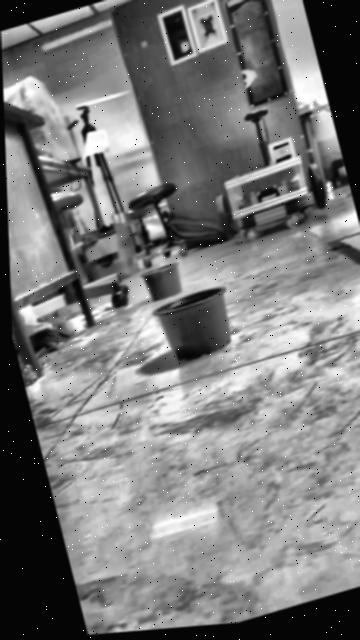pot: (150, 283, 239, 368), (140, 260, 184, 302)
